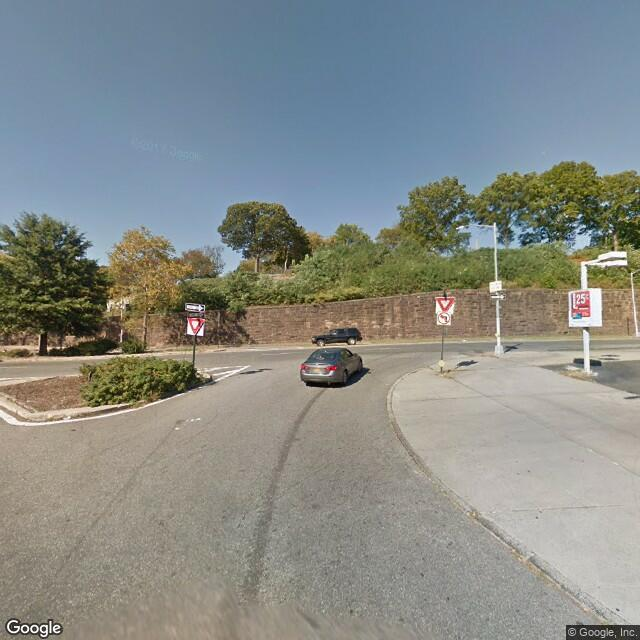litter: (173, 415, 211, 433)
